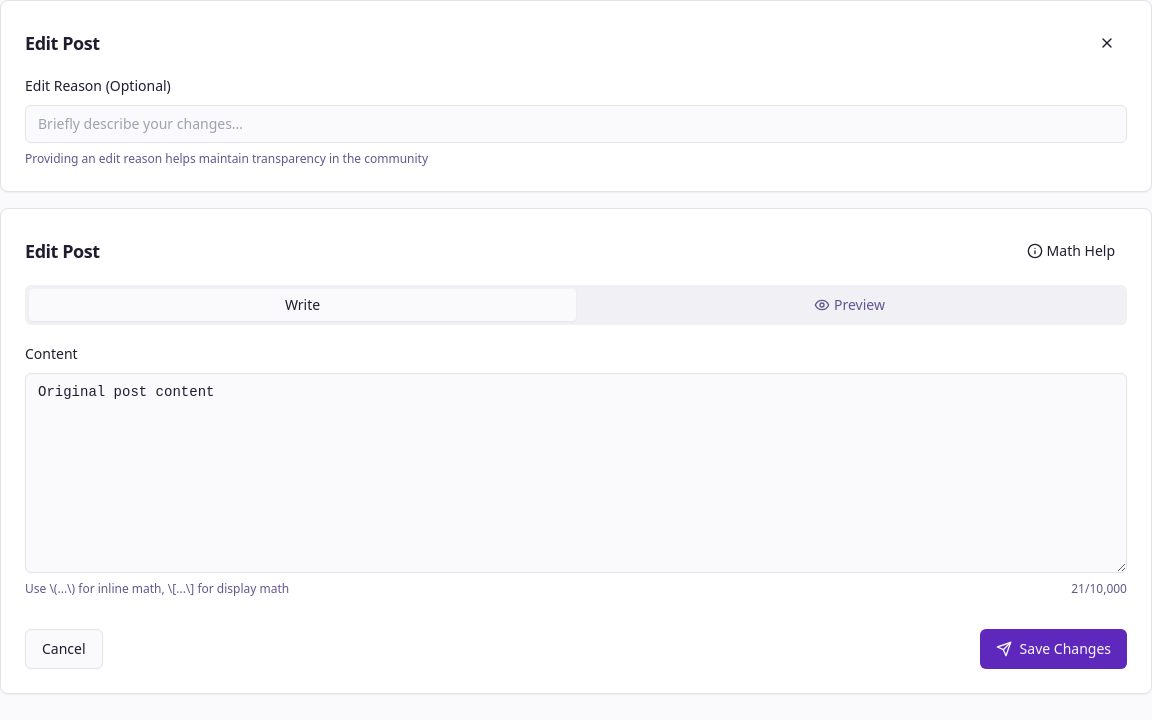
Test case: PostEditor › shows error when save fails
Click the button "Save Changes". click: (1053, 649)
box: [980,629,1127,669]
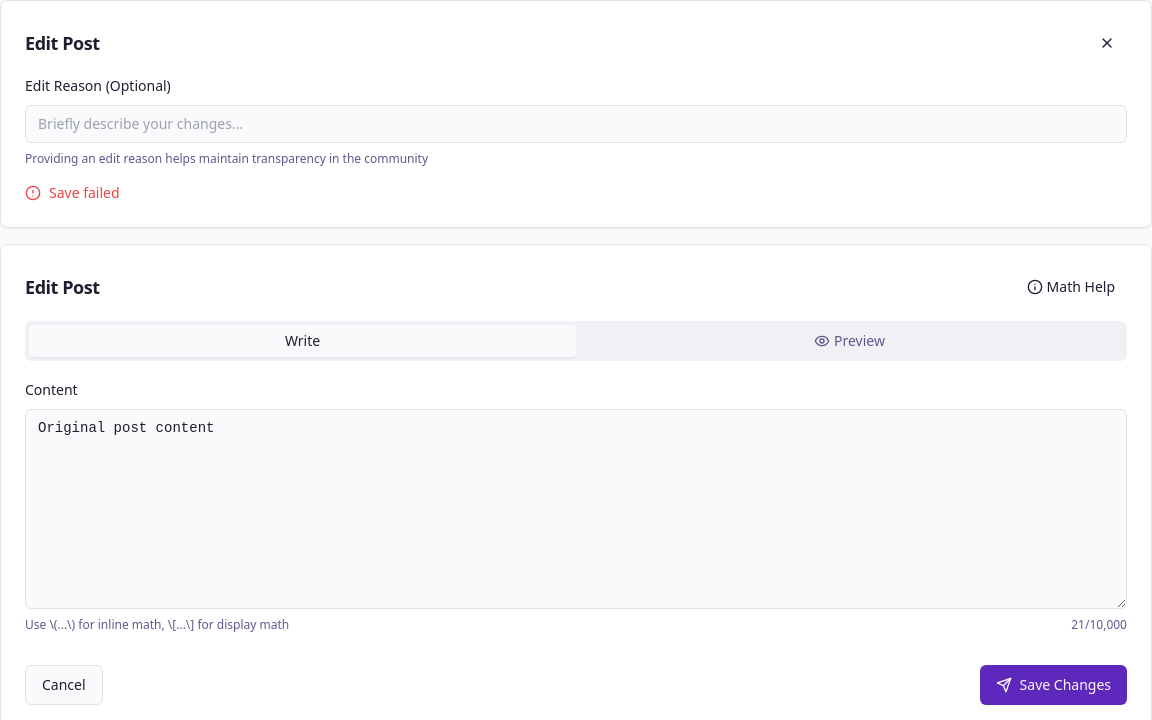
Check: the text "Save failed" is shown, box [25,183,120,202]
